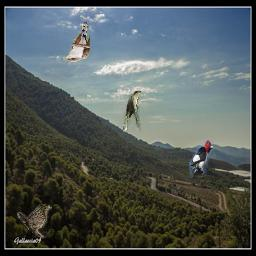Cuckoo: (62, 22, 90, 62), (123, 91, 141, 131)
Sparrow: (17, 203, 52, 239)
Woodpecker: (189, 140, 214, 180)
